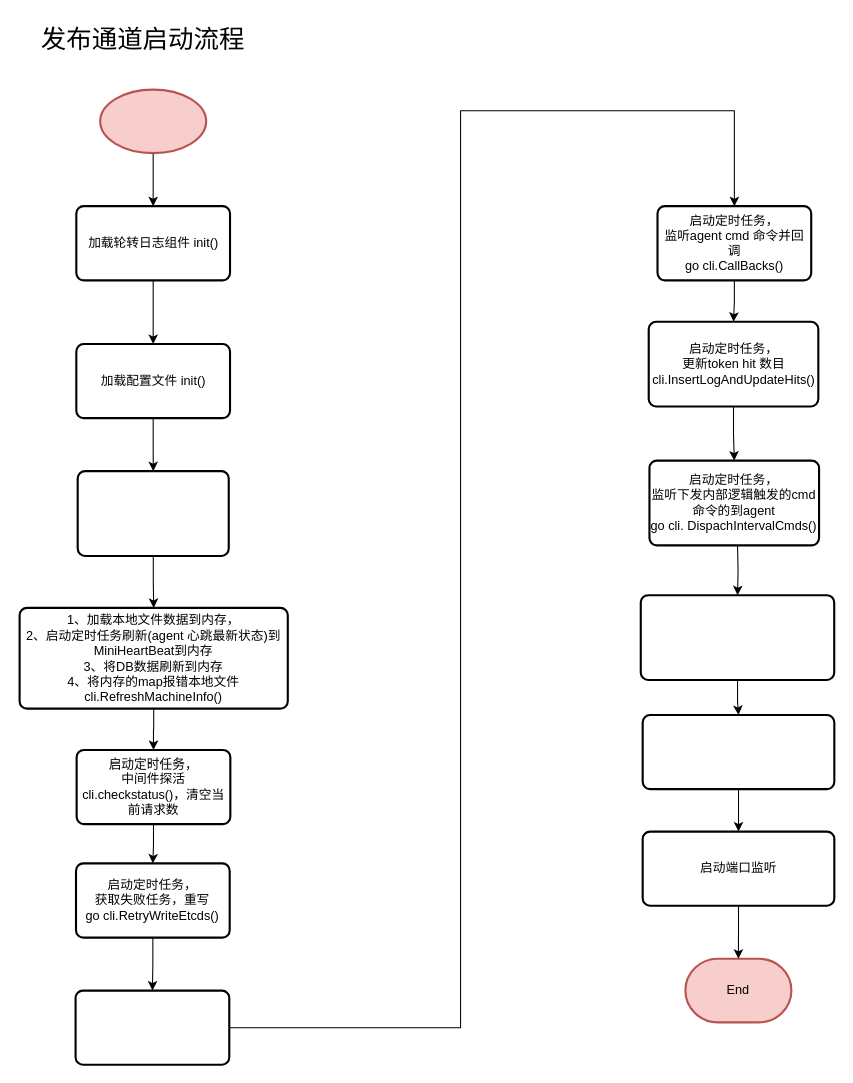
Some shapes in this 853 by 1083 pixel diagram are drawn without their labels. Here are the shapes that lost their labels. From the top down, the centre of each, then its label:
At pixel 153 121: "start".
At pixel 152 513: "初始化第三方组件 etcd /sqlite3（Memory/File）/redis 连接池 cli.InitComponent(action)".
At pixel 737 637: "启动定时任务， 监听etcd key 的删除 go cli. BackendDeleteEtcdKey()".
At pixel 738 751: "注册路由".
At pixel 152 1027: "启动定时任务， 监听并更新agent状态到DB，并且超过10分钟内未更新则更新状态为offline go cli.InsertHeartBeats()".
